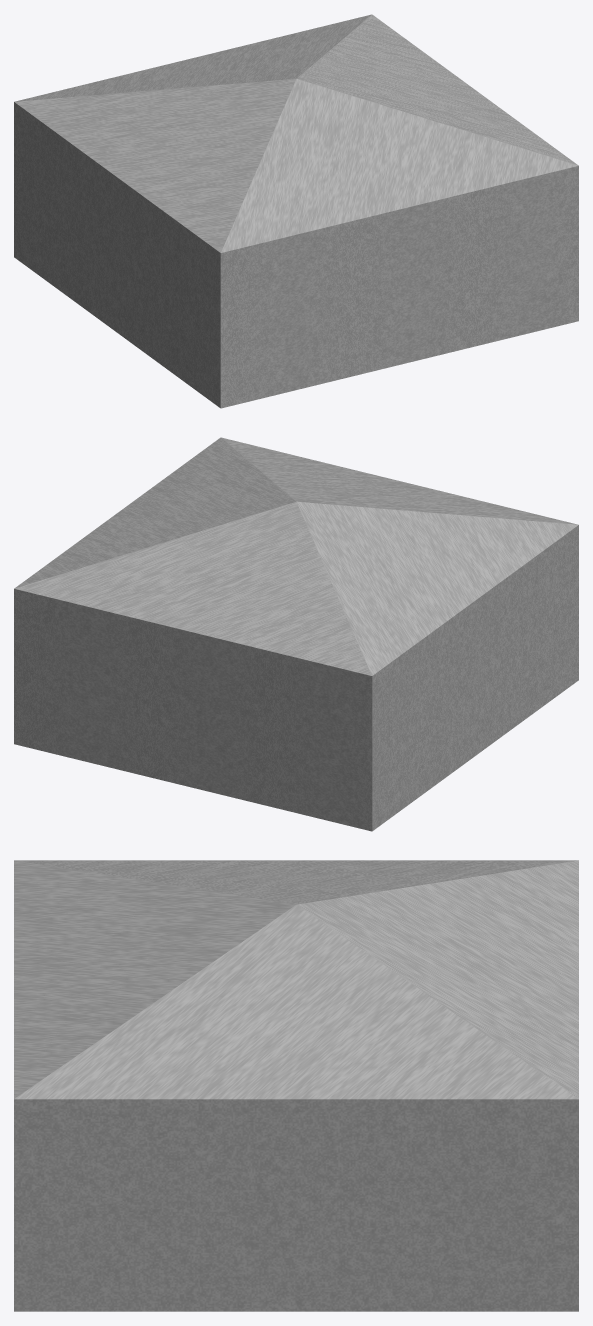
File: wall.obj
3 renders of one model, top to bottom at view 1: azimuth 30°, elevation 25°; view 2: azimuth 150°, elevation 25°; view 3: azimuth 270°, elevation 25°, orthographic. The views are drawn at different scales.
Parts seen in each view (by area): view 1: Cube; view 2: Cube; view 3: Cube.
Boxes of the visible parts, left/top/right/bottom form: Cube: left=14, top=14, right=578, bottom=408; Cube: left=14, top=437, right=578, bottom=831; Cube: left=14, top=860, right=578, bottom=1311.
Bounding box in the file's own units: 2 × 1.12 × 2.
Materials: 1 (1 with a texture image).
